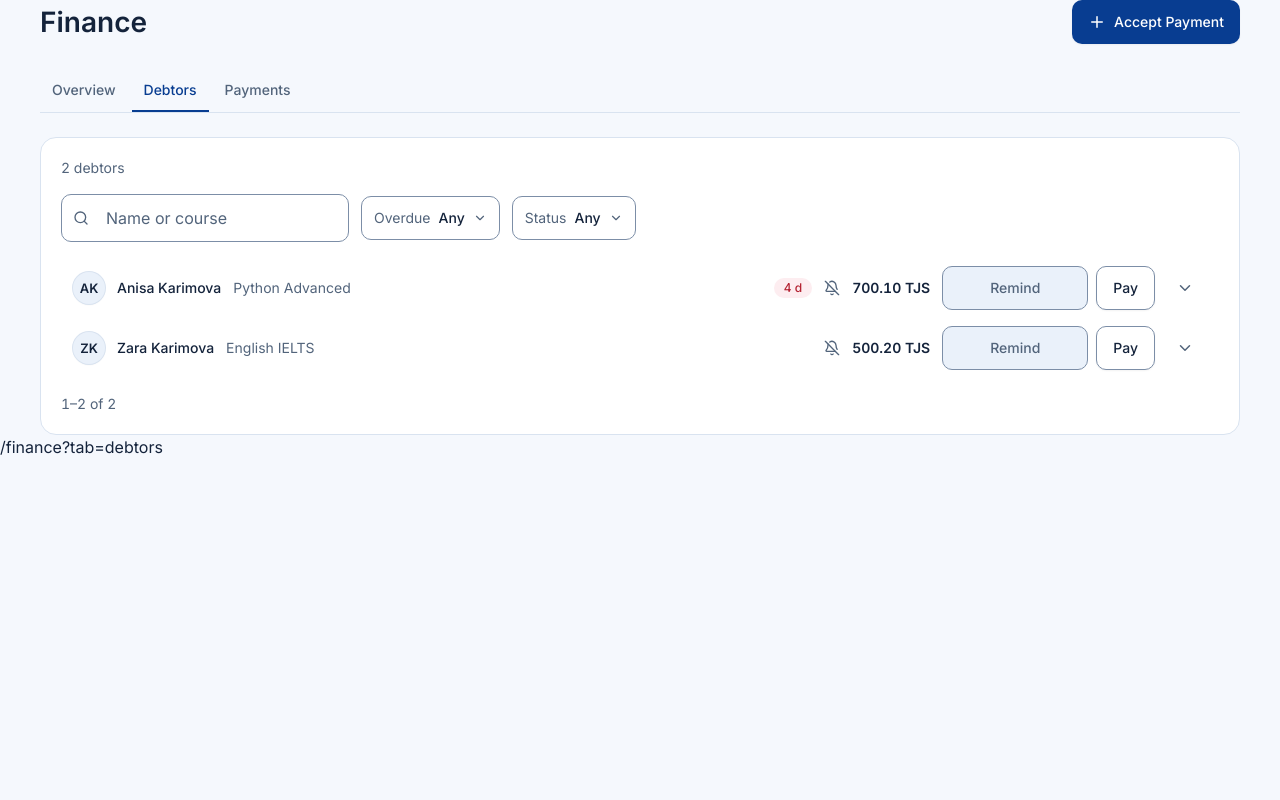
Debtors rows › opens the payment dialog for the exact student and course of the row
Expected: the text "Zara Karimova" is shown, [117, 338, 214, 358]
Click the button with aria-label "Accept payment for Zara Karimova, English IELTS".
click(1126, 348)  # box [1096, 326, 1155, 370]
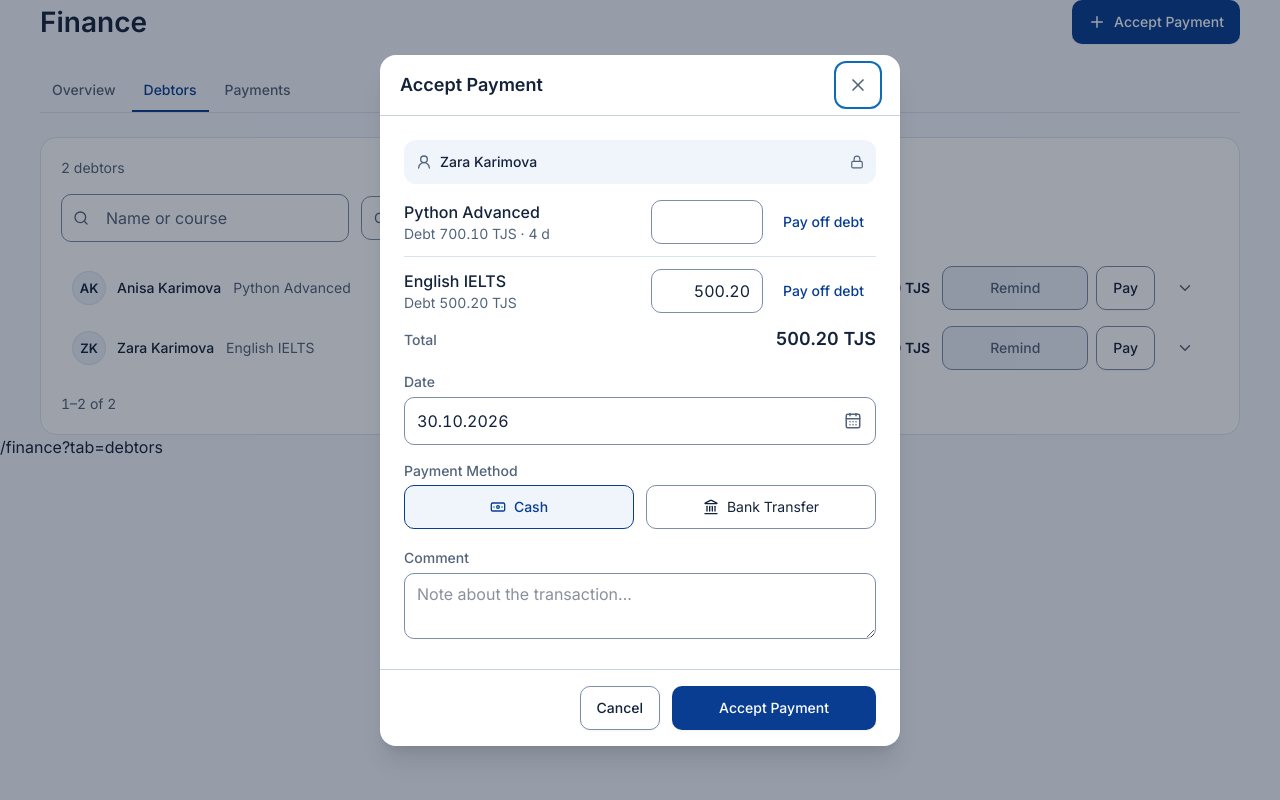
Expected: the field named "Amount for Python Advanced (TJS)" is empty, [651, 200, 763, 244]
Result: the text "Zara Karimova" is shown at [440, 152, 537, 172]
Result: the field named "Amount for English IELTS (TJS)" holds "500.20" at [651, 268, 763, 312]
